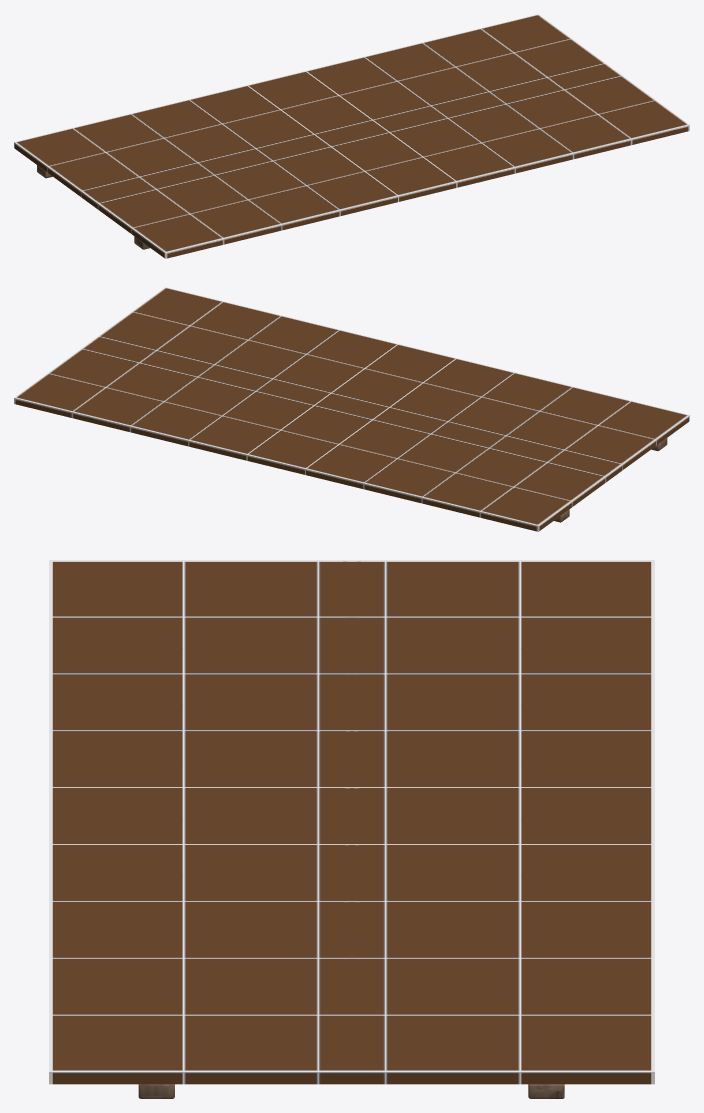
The model's file is Hangar01F_5.FBX.
The picture shows the model from 3 angles, top to bottom: view 1: azimuth 30°, elevation 25°; view 2: azimuth 150°, elevation 25°; view 3: azimuth 270°, elevation 25°; orthographic projection. The views are drawn at different scales.
Visible parts, largest first — view 1: Hangar01F_5; view 2: Hangar01F_5; view 3: Hangar01F_5.
Part boxes in pixels (bbox=[...]): Hangar01F_5: bbox=[14, 14, 689, 258]; Hangar01F_5: bbox=[14, 287, 689, 531]; Hangar01F_5: bbox=[49, 560, 654, 1098].
Size of what is drawn, in the model's own units: 4.5 by 0.1126 by 2.25.
